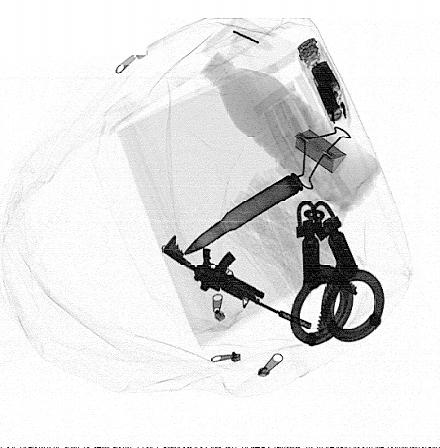Bullet: (184, 171, 305, 254)
Gun: (161, 234, 313, 330)
HandCuffs: (289, 197, 385, 347)
